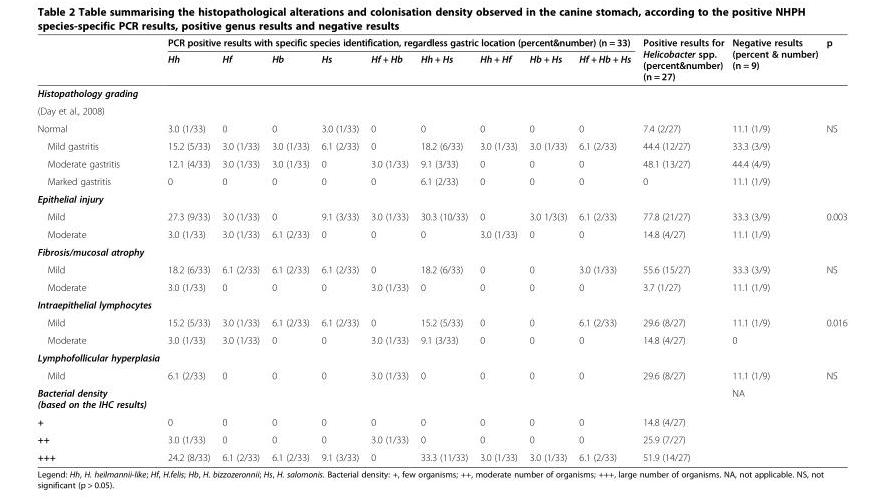table: (36, 36, 846, 462)
table column: (36, 36, 163, 462), (727, 36, 821, 462), (636, 36, 727, 462), (572, 36, 636, 462), (413, 36, 473, 462), (163, 36, 215, 462), (215, 36, 265, 462), (314, 36, 364, 462), (522, 36, 572, 462), (265, 36, 314, 462), (364, 36, 413, 462), (473, 36, 522, 462), (821, 36, 846, 462)
table column header: (36, 36, 846, 84)
table projected row header: (36, 101, 846, 119), (36, 189, 846, 207), (36, 242, 846, 260), (36, 295, 846, 313), (36, 348, 846, 366), (36, 84, 846, 101)
table row: (36, 50, 846, 84), (36, 383, 846, 412), (36, 101, 846, 119), (36, 136, 846, 154), (36, 154, 846, 172), (36, 189, 846, 207), (36, 207, 846, 225), (36, 242, 846, 260), (36, 260, 846, 278), (36, 295, 846, 313), (36, 330, 846, 348), (36, 348, 846, 366), (36, 412, 846, 430), (36, 430, 846, 448), (36, 84, 846, 101), (36, 119, 846, 136), (36, 172, 846, 189), (36, 225, 846, 242), (36, 278, 846, 295), (36, 313, 846, 330), (36, 366, 846, 383), (36, 36, 846, 50), (36, 448, 846, 462)
table spanning cell: (163, 36, 636, 50), (727, 36, 821, 84), (636, 36, 727, 84), (821, 119, 846, 189), (821, 36, 846, 84), (821, 207, 846, 242), (821, 260, 846, 295), (821, 313, 846, 348)
